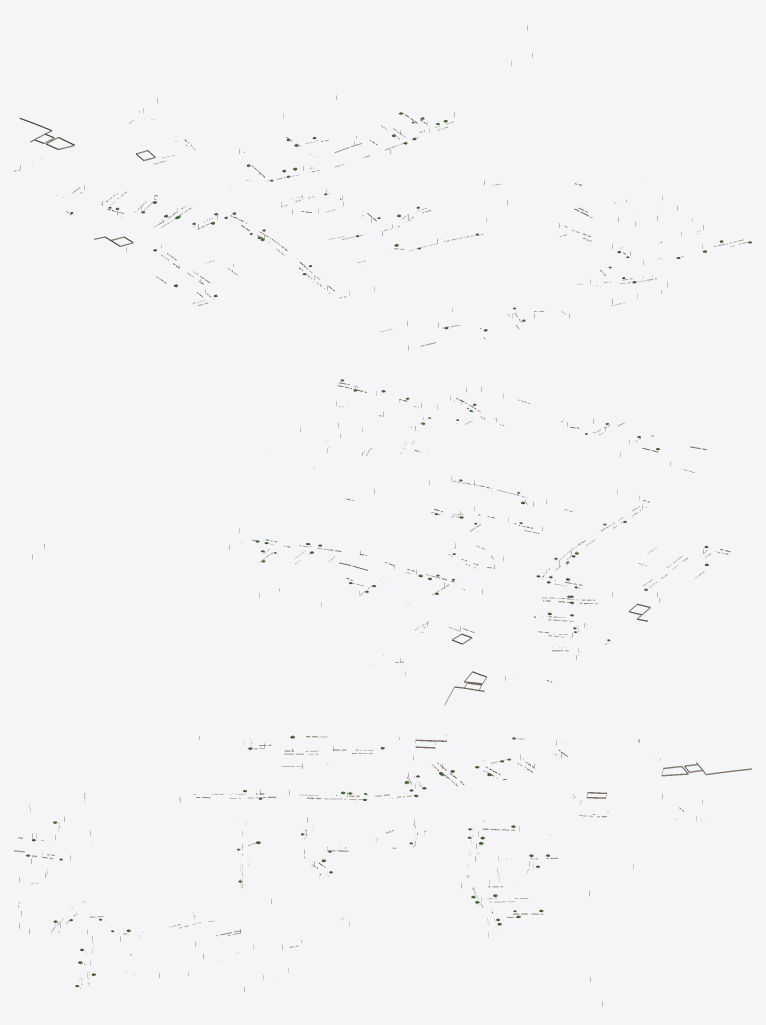
File: nd_stm_m7_m6.glb
3 views of the same model, one above another, from view 1: azimuth 30°, elevation 25°; view 2: azimuth 150°, elevation 25°; view 3: azimuth 270°, elevation 25° (orthographic). The views are drawn at different scales.
Parts seen in each view (by area): view 1: nd_stm_m7_m6_lod0; view 2: nd_stm_m7_m6_lod0; view 3: nd_stm_m7_m6_lod0.
Boxes of the visible parts, bbox=[...] form: nd_stm_m7_m6_lod0: bbox=[14, 25, 751, 350]; nd_stm_m7_m6_lod0: bbox=[32, 379, 730, 705]; nd_stm_m7_m6_lod0: bbox=[14, 734, 751, 1006].
Size of what is drawn, in the model's own units: 962 by 24.38 by 1058.
